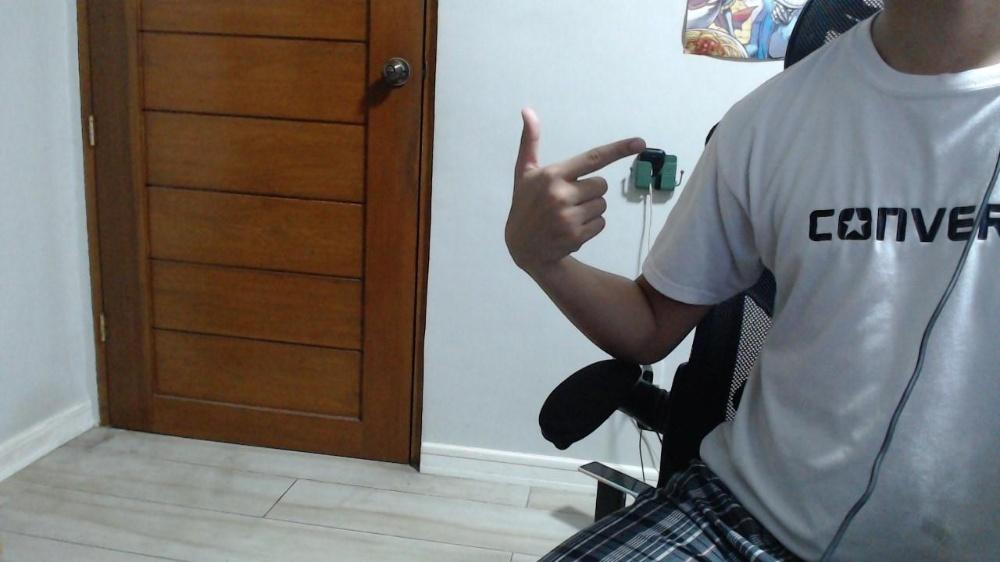g: (513, 106, 646, 271)
